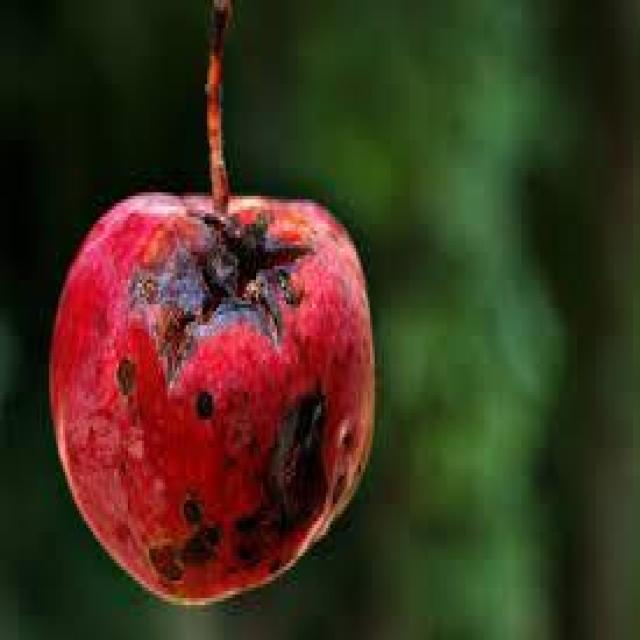maca: (47, 0, 377, 605)
